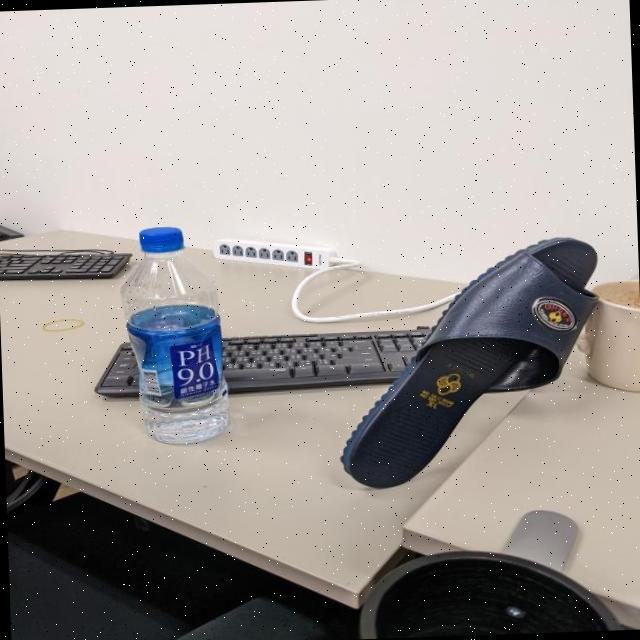bottle: (105, 216, 252, 451)
cap: (138, 225, 184, 258)
label: (128, 311, 234, 412)
